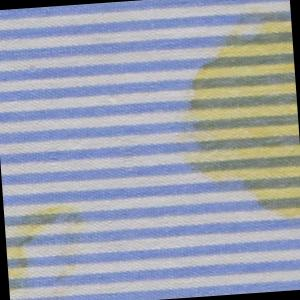Stain: (183, 3, 300, 229), (4, 198, 97, 300)
